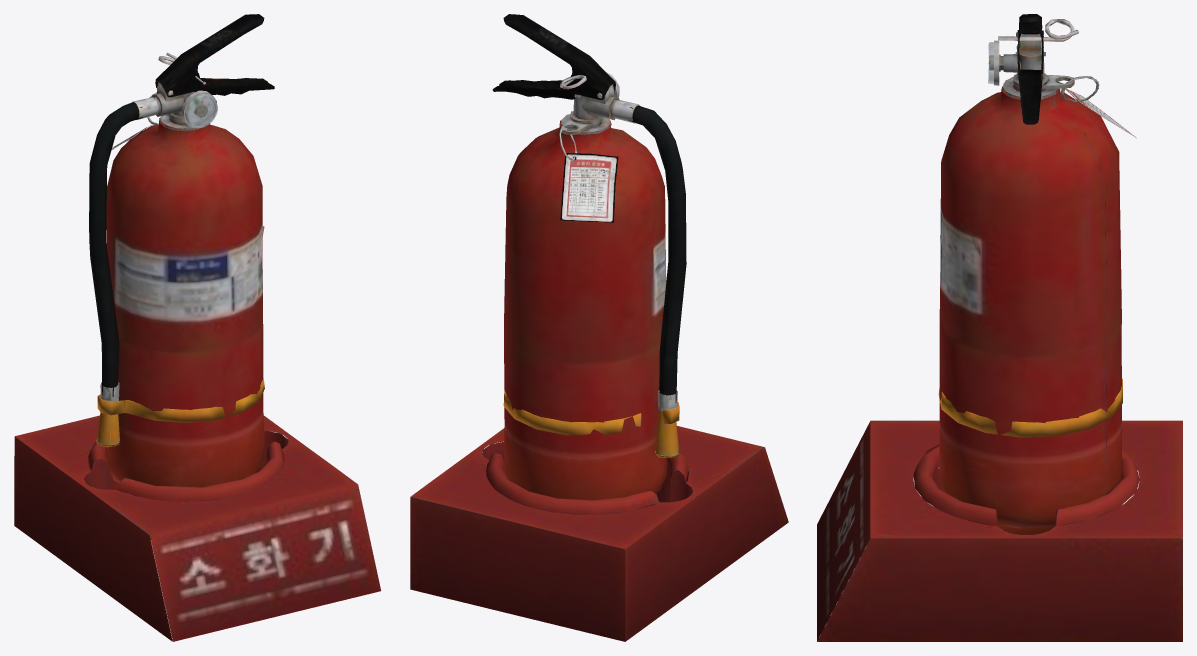
Rendered from korean_fire_extinguisher_01.glb.
The picture shows the model from 3 angles, left to right: view 1: azimuth 30°, elevation 25°; view 2: azimuth 150°, elevation 25°; view 3: azimuth 270°, elevation 25°; orthographic projection. The views are drawn at different scales.
Visible parts, largest first — view 1: korean_fire_extinguisher_01; view 2: korean_fire_extinguisher_01; view 3: korean_fire_extinguisher_01.
Boxes of the visible parts, box(x1,y1,x2,y2) form: korean_fire_extinguisher_01: box(14, 14, 381, 641); korean_fire_extinguisher_01: box(410, 14, 788, 641); korean_fire_extinguisher_01: box(817, 14, 1182, 641).
Size of the model in its own units: 0.2795 by 0.6588 by 0.3674.
3 materials, 3 textured.
